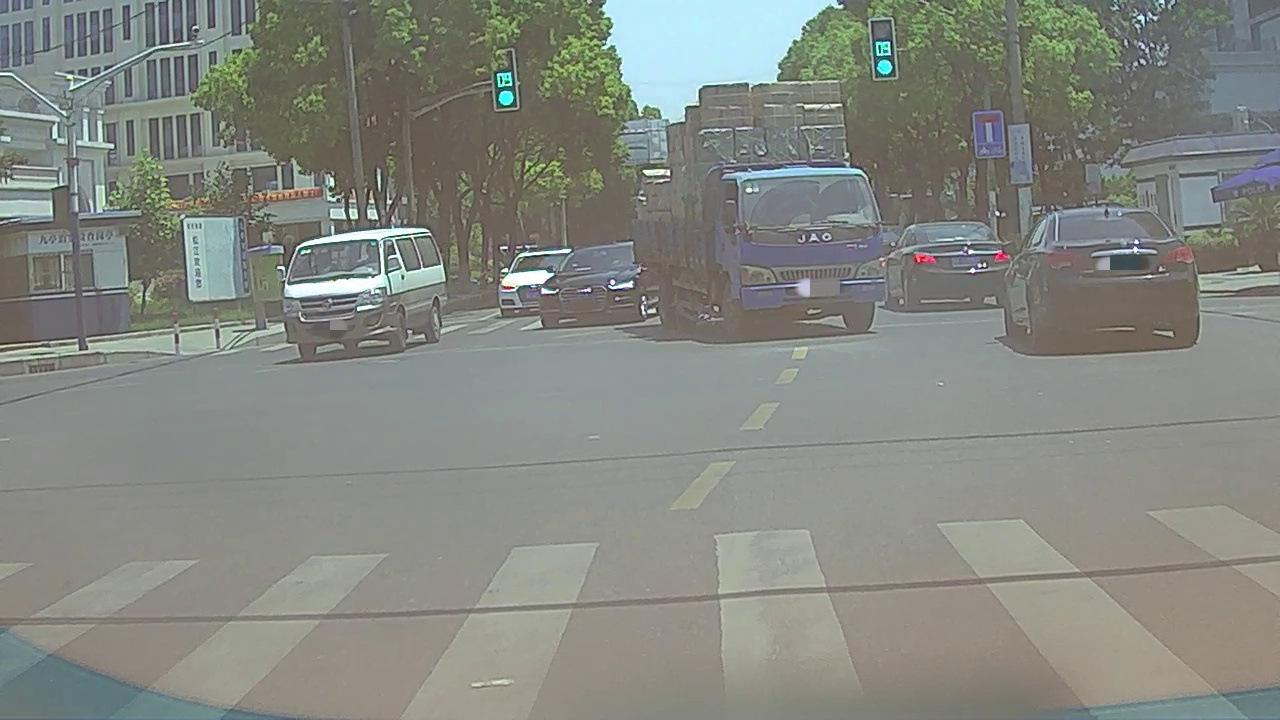traffic_light: (492, 51, 519, 112), (870, 20, 896, 80)
